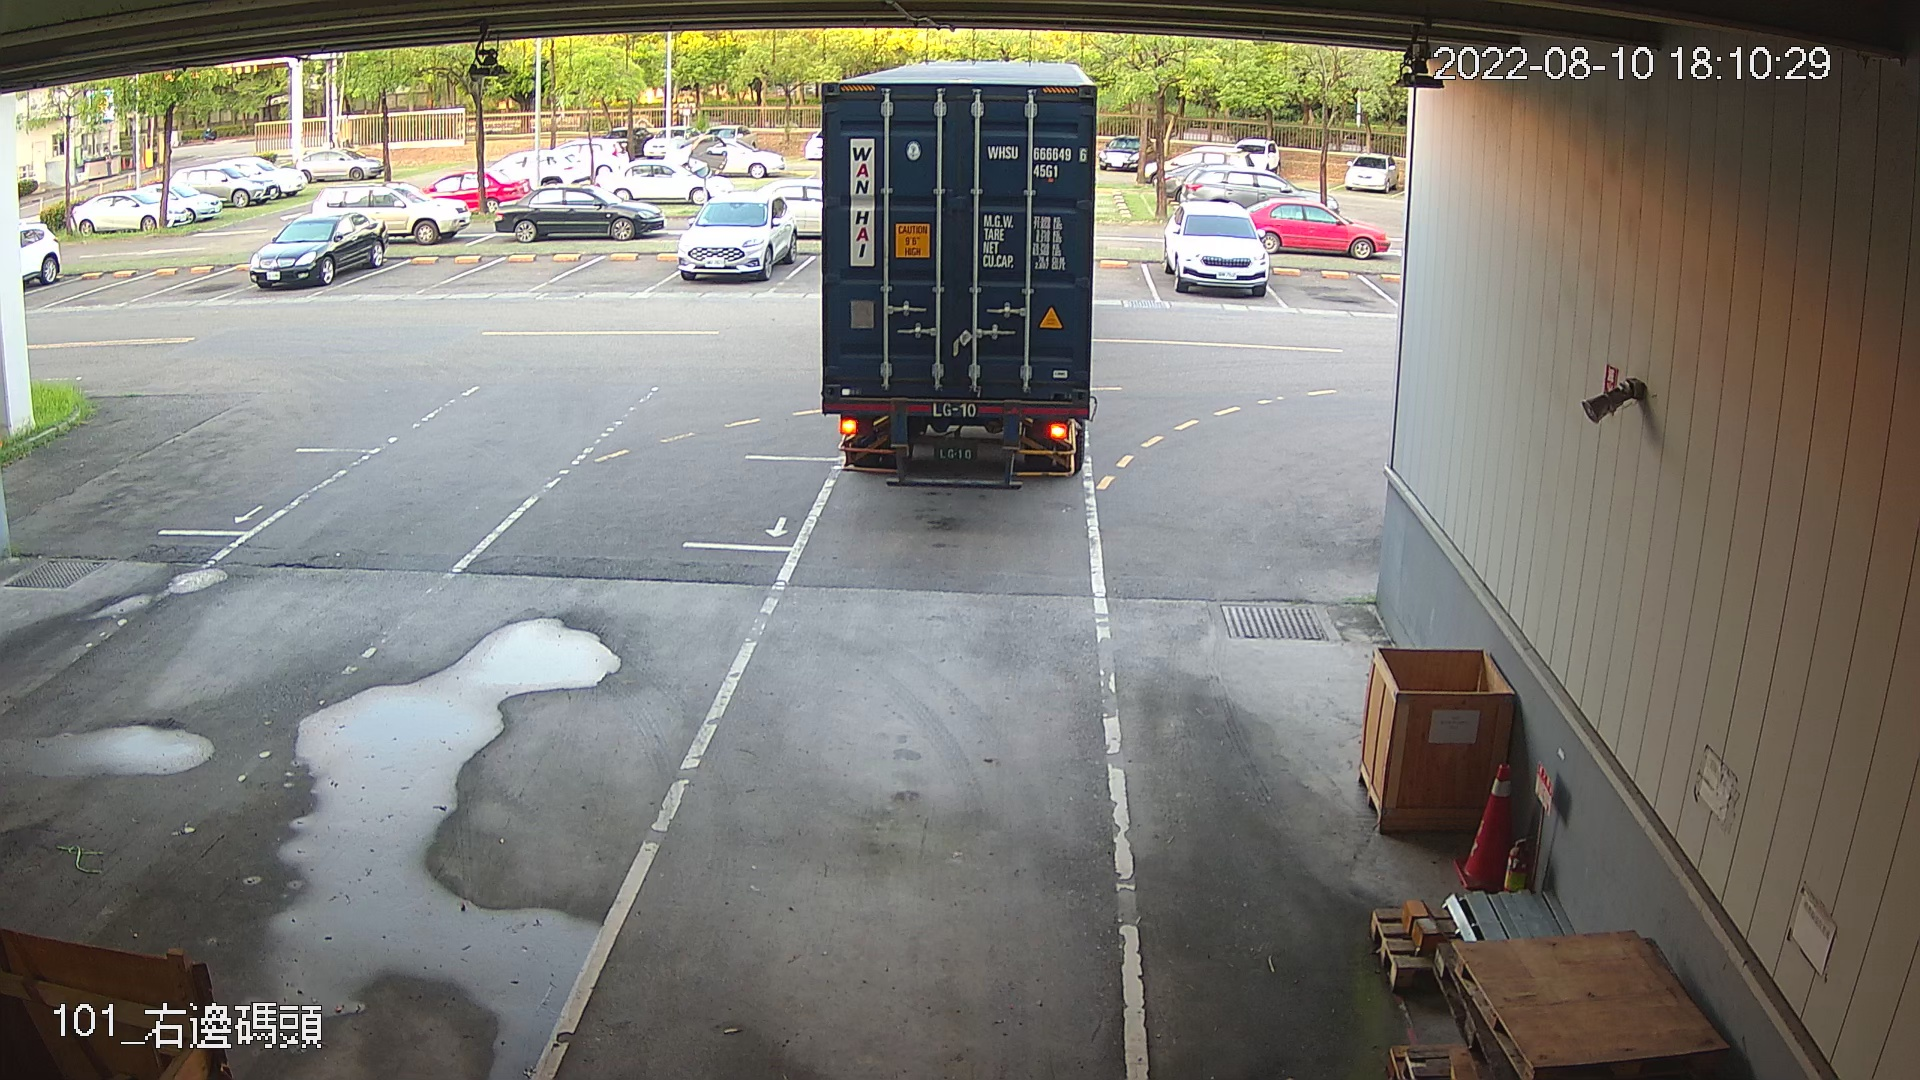container: (982, 138, 1091, 183)
